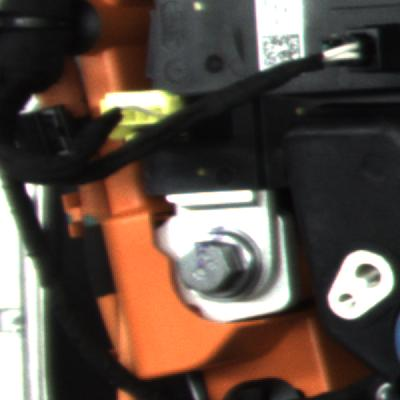nut_b: (175, 217, 269, 312)
